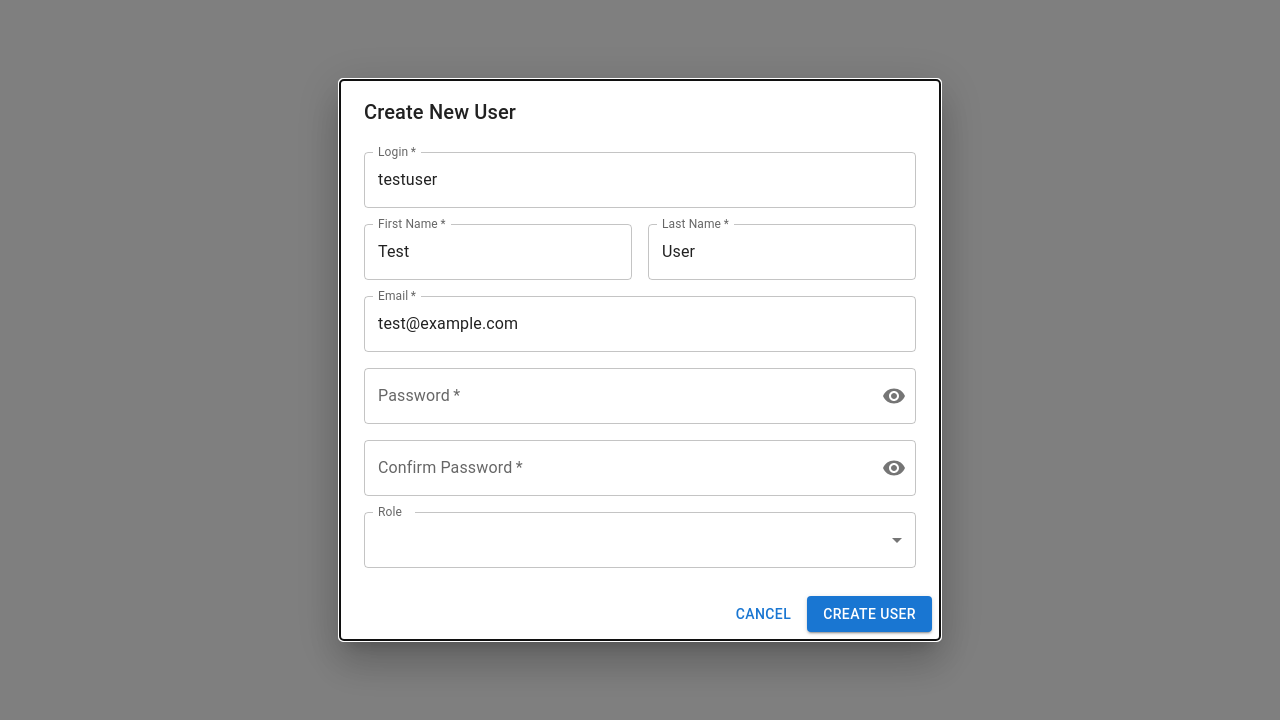
Test: UserDialog › shows error message when no roles are available
The image size is (1280, 720).
Press the mouse on the dropdown named "role" at x=640, y=540, box [364,512,916,568]
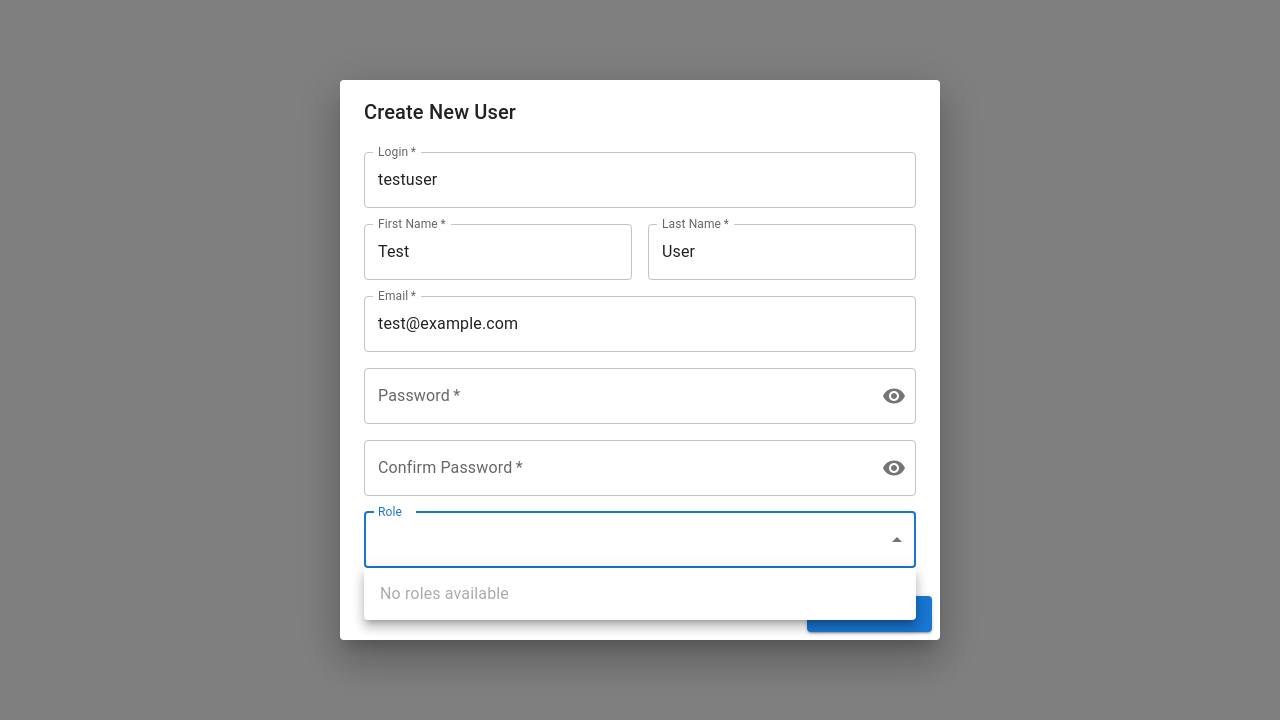
Expected: the option "No roles available" is shown, [380,584,509,603]
